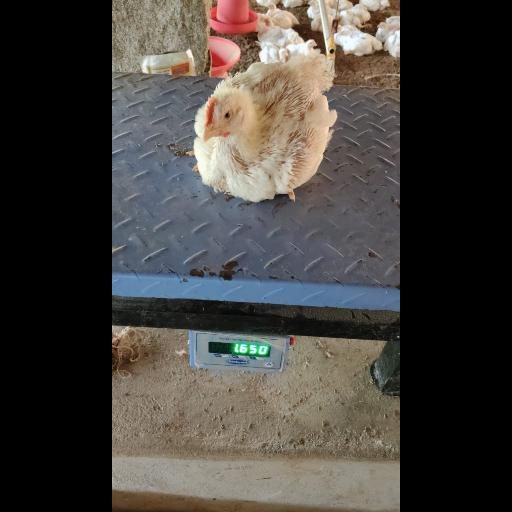chick: (192, 56, 339, 200)
